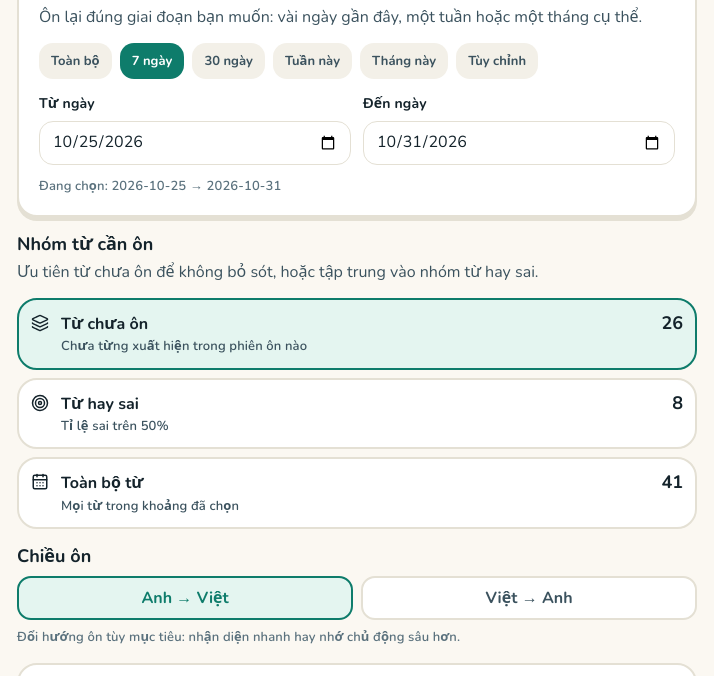
Test: ReviewConfigPage — the window, the group, the count › refuses to start on a half-filled custom range
Click the button "Tùy chỉnh" at (497, 61), box [456, 43, 538, 79]
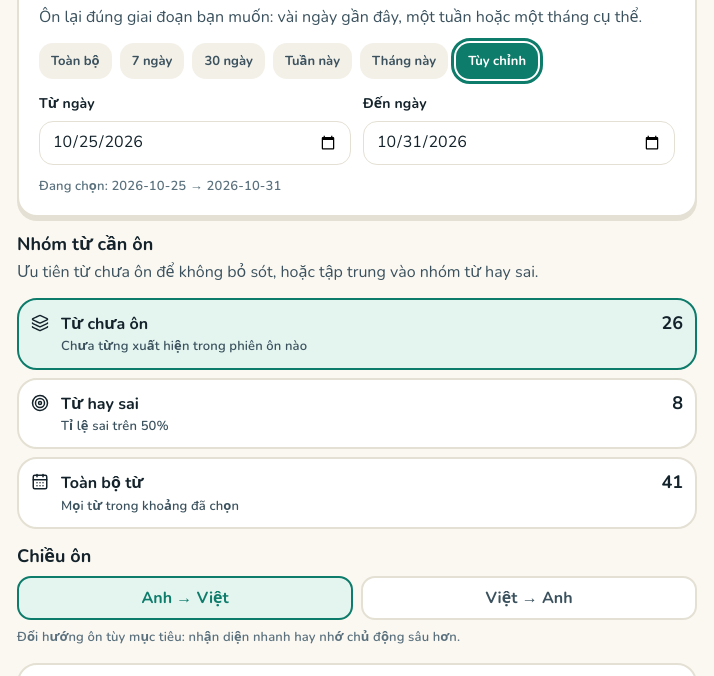
Clear the date field labelled "Từ ngày" at (195, 143), box [39, 121, 351, 165]
(page scrolled)
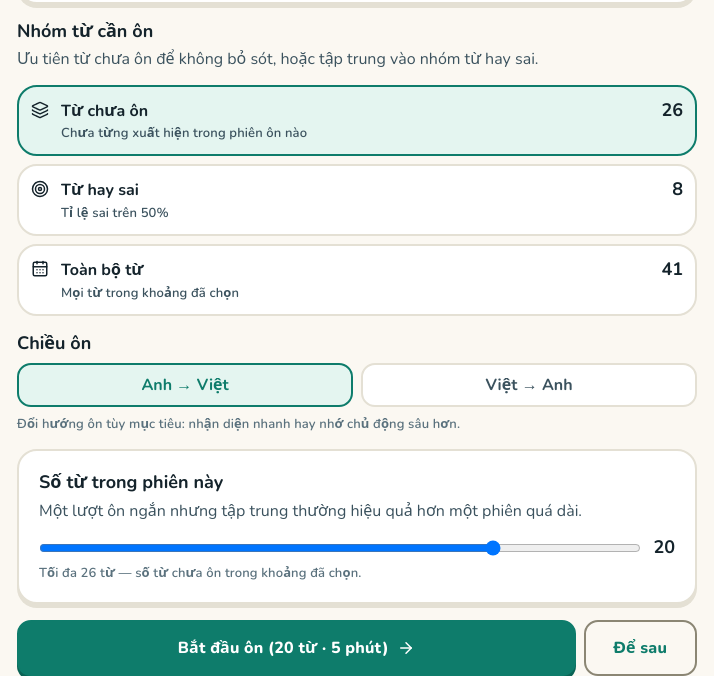
Expected: the button "Bắt đầu ôn (20 từ · 5 phút)" is disabled, [17, 620, 576, 675]
